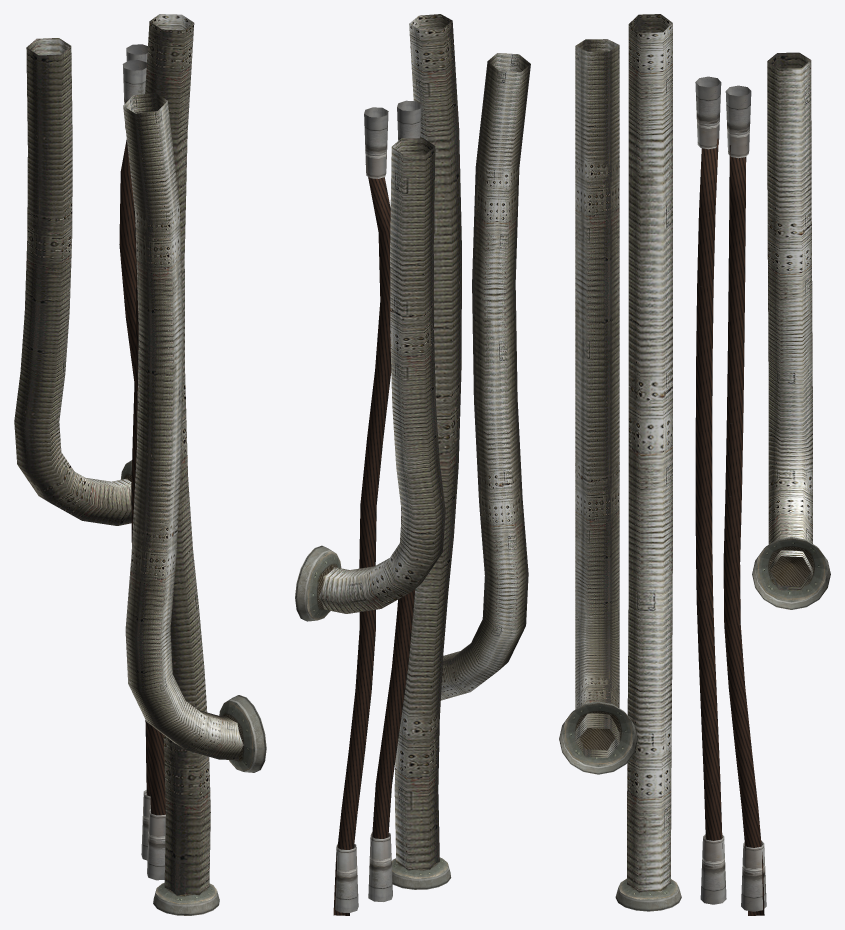
Rendered from EQP_PIPES006.FBX.
The picture shows the model from 3 angles, left to right: view 1: azimuth 30°, elevation 25°; view 2: azimuth 150°, elevation 25°; view 3: azimuth 270°, elevation 25°; orthographic projection. The views are drawn at different scales.
Parts seen in each view (by area): view 1: PIPES006; view 2: PIPES006; view 3: PIPES006.
Boxes of the visible parts, bbox=[...] form: PIPES006: bbox=[14, 14, 266, 915]; PIPES006: bbox=[295, 14, 530, 915]; PIPES006: bbox=[559, 14, 830, 915].
Bounding box in the file's own units: 46.63 × 296 × 83.6.
1 material, 1 textured.
